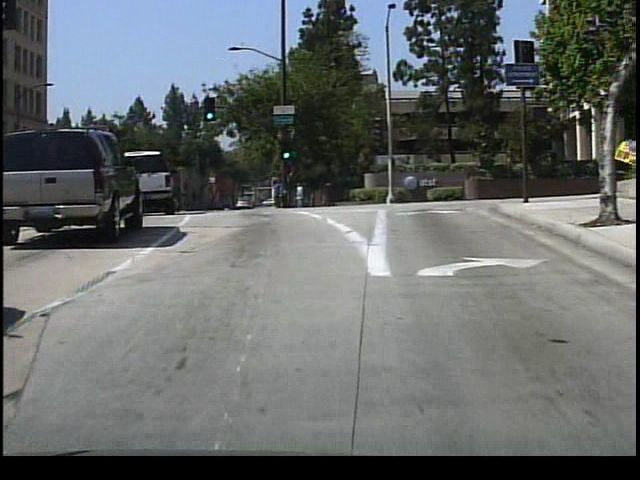person: (268, 172, 288, 211), (293, 178, 309, 210)
